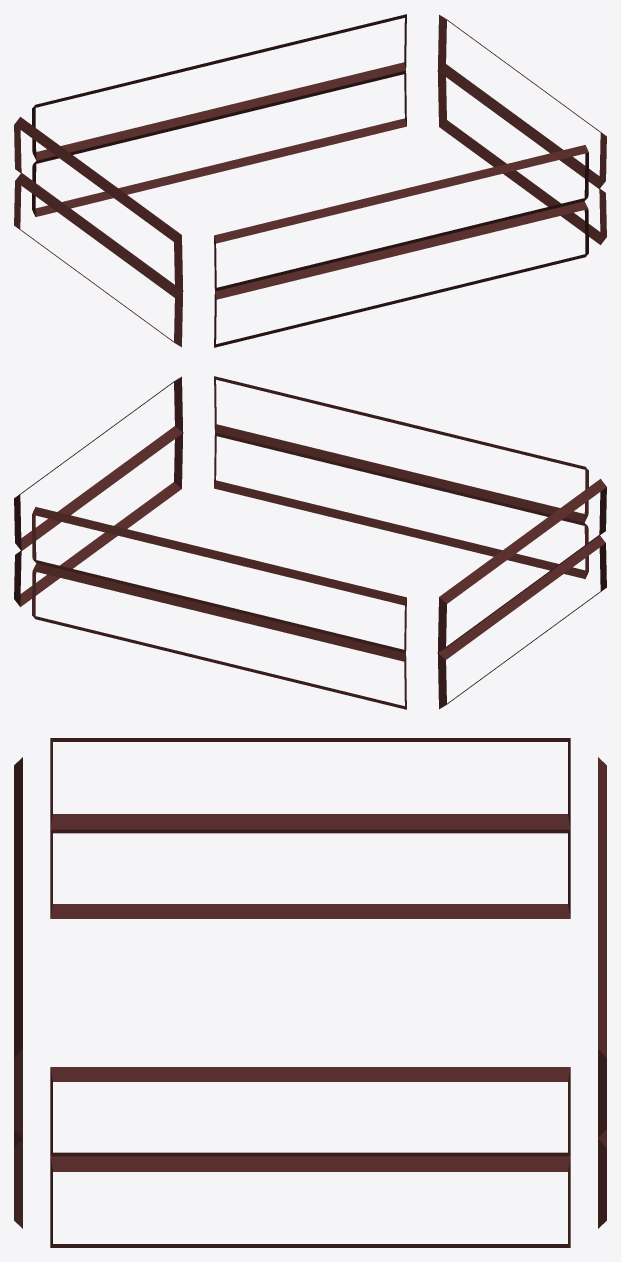
The model's file is n2_chest_bottom_dark_brown_0_lev2.006.glb.
3 renders of one model, top to bottom at view 1: azimuth 30°, elevation 25°; view 2: azimuth 150°, elevation 25°; view 3: azimuth 270°, elevation 25°, orthographic. The views are drawn at different scales.
Parts seen in each view (by area): view 1: n2_chest_bottom_dark_brown_0_lev2.006; view 2: n2_chest_bottom_dark_brown_0_lev2.006; view 3: n2_chest_bottom_dark_brown_0_lev2.006.
Boxes of the visible parts, x1=… form: n2_chest_bottom_dark_brown_0_lev2.006: x1=14, y1=14, x2=606, y2=347; n2_chest_bottom_dark_brown_0_lev2.006: x1=14, y1=376, x2=606, y2=709; n2_chest_bottom_dark_brown_0_lev2.006: x1=14, y1=738, x2=606, y2=1247.
Size of the model in its own units: 1.16 by 0.2872 by 0.8519.
